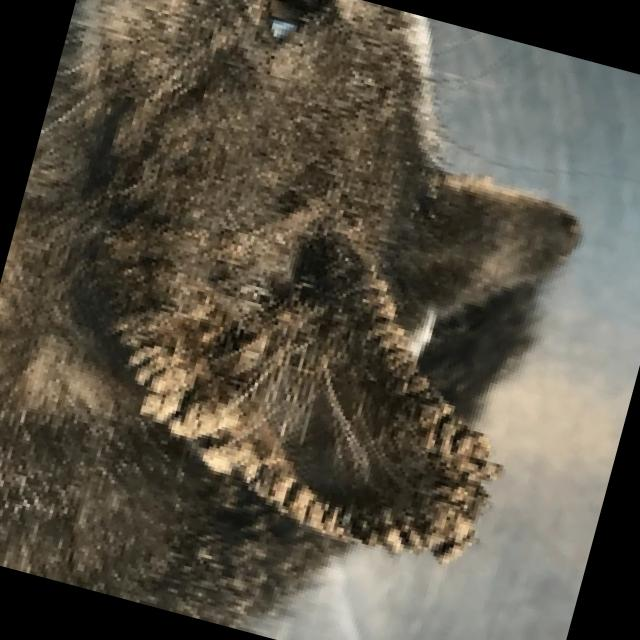Mange: (107, 233, 499, 566), (249, 230, 302, 292), (164, 284, 216, 334)
